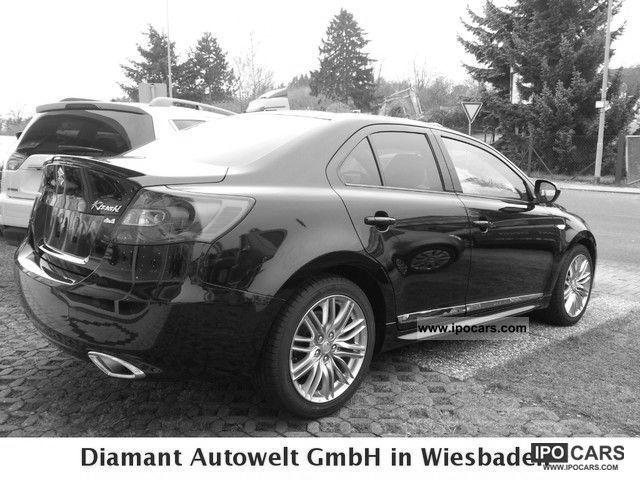car: (14, 113, 599, 417)
